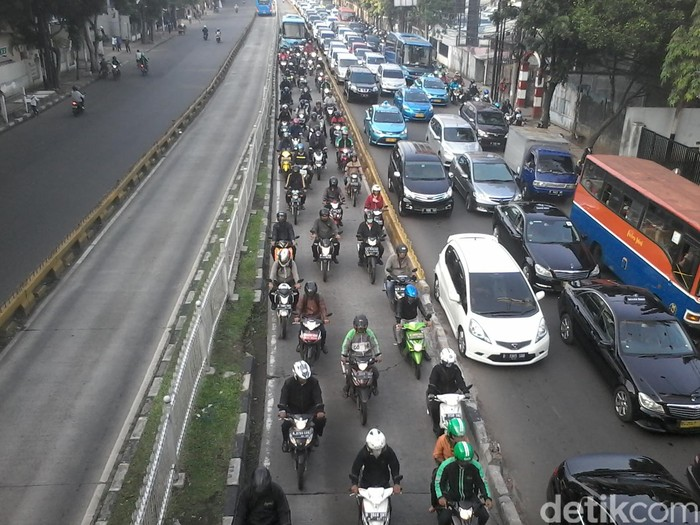car: (557, 279, 700, 441), (570, 150, 700, 322), (431, 230, 553, 367), (494, 202, 599, 296), (501, 126, 574, 198), (389, 141, 453, 218), (453, 149, 520, 218), (425, 115, 481, 169), (384, 31, 433, 85), (365, 103, 407, 151), (394, 86, 434, 123), (411, 73, 450, 107), (346, 66, 380, 102), (278, 16, 309, 52), (377, 63, 406, 95), (335, 52, 359, 83), (338, 9, 357, 34), (355, 47, 372, 68), (362, 32, 377, 52)
motorbike: (431, 415, 491, 525), (278, 366, 327, 490), (347, 427, 403, 525), (417, 350, 473, 438), (340, 314, 383, 428), (391, 286, 429, 381), (295, 282, 330, 367), (236, 469, 289, 525), (268, 249, 301, 338), (309, 209, 340, 280), (384, 247, 413, 313), (360, 214, 386, 284), (269, 210, 297, 268), (287, 166, 307, 225), (323, 177, 343, 234), (365, 186, 384, 236), (344, 152, 361, 207), (293, 145, 310, 191), (311, 127, 326, 179), (337, 131, 354, 174), (278, 129, 291, 180), (330, 111, 345, 149), (307, 111, 322, 148), (279, 104, 290, 150), (291, 119, 303, 159), (279, 87, 294, 118), (70, 87, 87, 114), (312, 100, 325, 134), (324, 93, 337, 124), (299, 88, 312, 115), (320, 76, 332, 103), (297, 98, 307, 130), (297, 65, 308, 92), (467, 78, 479, 101), (315, 65, 324, 93), (308, 44, 318, 69), (450, 78, 459, 105), (278, 49, 287, 75), (287, 50, 296, 76), (139, 54, 149, 77), (280, 76, 292, 95), (455, 72, 464, 96), (112, 55, 121, 79), (99, 58, 109, 79), (306, 56, 314, 77), (441, 73, 449, 92), (135, 47, 142, 67)
